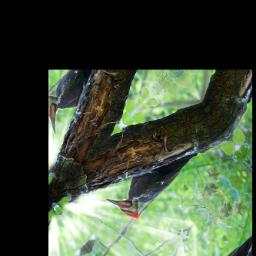Woodpecker: (104, 125, 202, 230)
